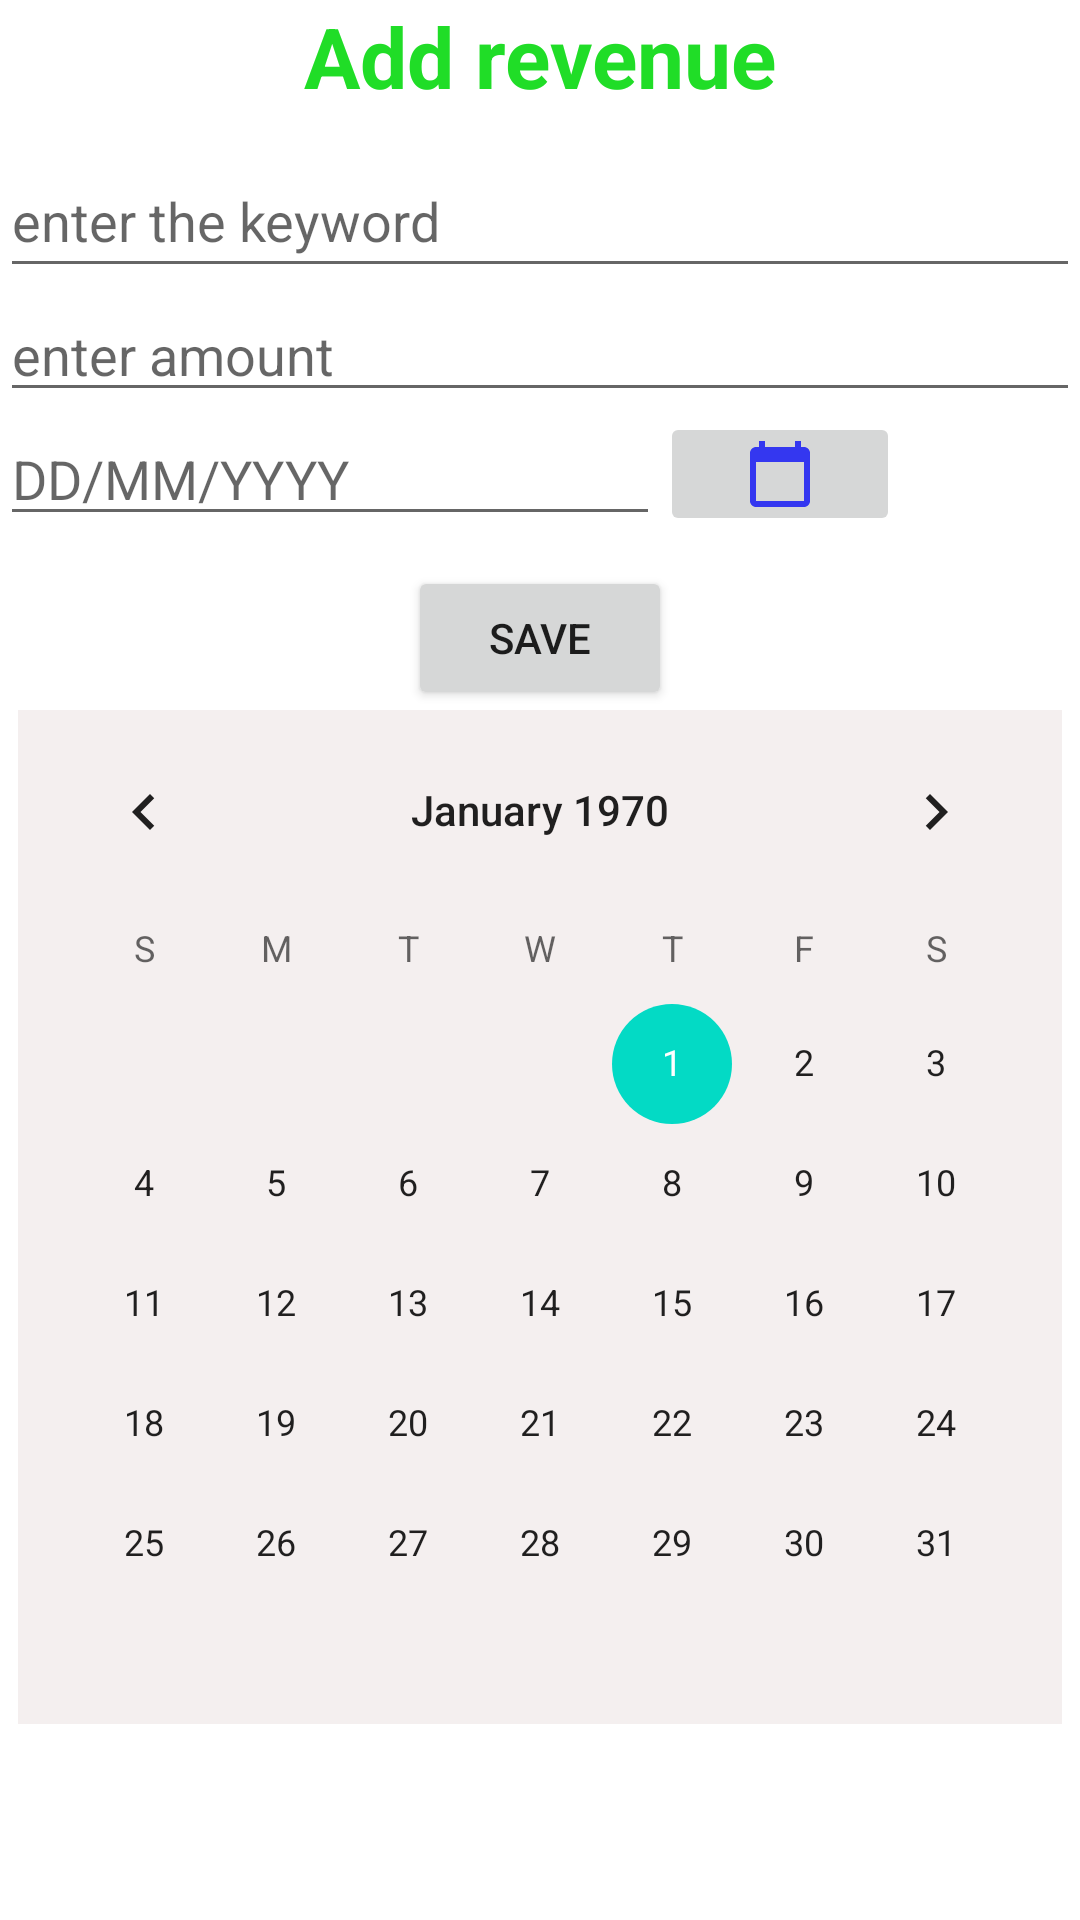

Screen size 1080×1920. Icon name, then its box in pixels as (x1, y1, x2, y2):
calender: (672, 430, 888, 518)
